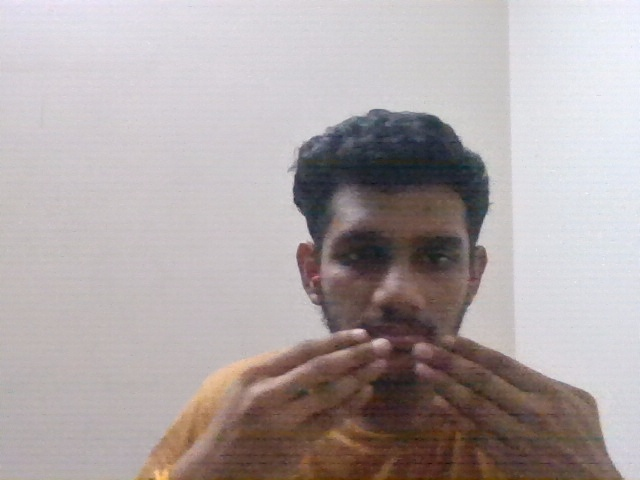thanks: (195, 323, 607, 462)
